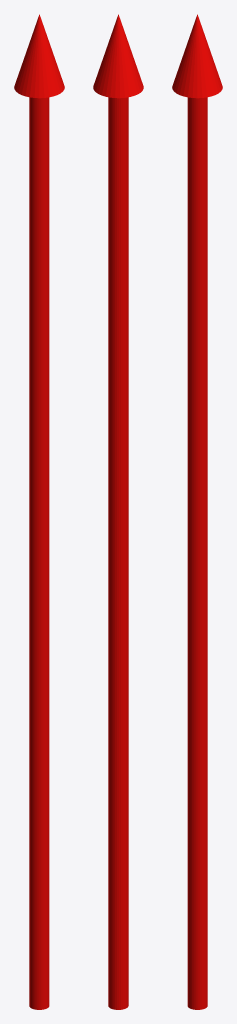
File: axesY.obj
The picture shows the model from 3 angles, left to right: view 1: azimuth 90°, elevation 25°; view 2: azimuth 150°, elevation 25°; view 3: azimuth 270°, elevation 25°; orthographic projection.
Visible parts, largest first — view 1: Cylinder; view 2: Cylinder; view 3: Cylinder.
Boxes of the visible parts, bbox=[...] form: Cylinder: bbox=[14, 14, 64, 1009]; Cylinder: bbox=[93, 14, 143, 1009]; Cylinder: bbox=[172, 14, 222, 1009].
Bounding box in the file's own units: 0.1 × 2.16 × 0.1.
